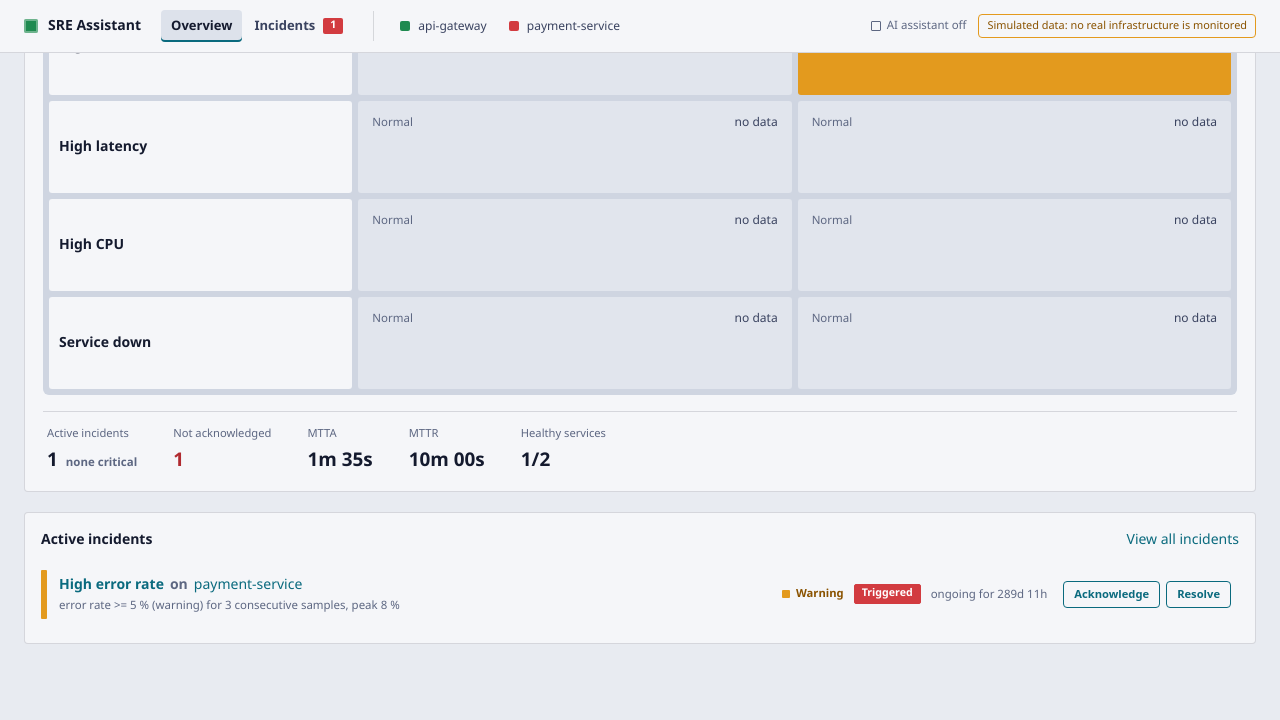
it: overview › shows KPIs, service health, active incidents and acknowledges in one click
The width and height of the screenshot is (1280, 720).
(page scrolled)
Expected: the text "Simulated data: no real infrastructure is monitored" is shown, [978, 14, 1256, 38]
Expected: the text "1m 35s" is shown, [307, 445, 373, 473]
Click the button "Acknowledge" at (1112, 594), box [1063, 581, 1160, 608]
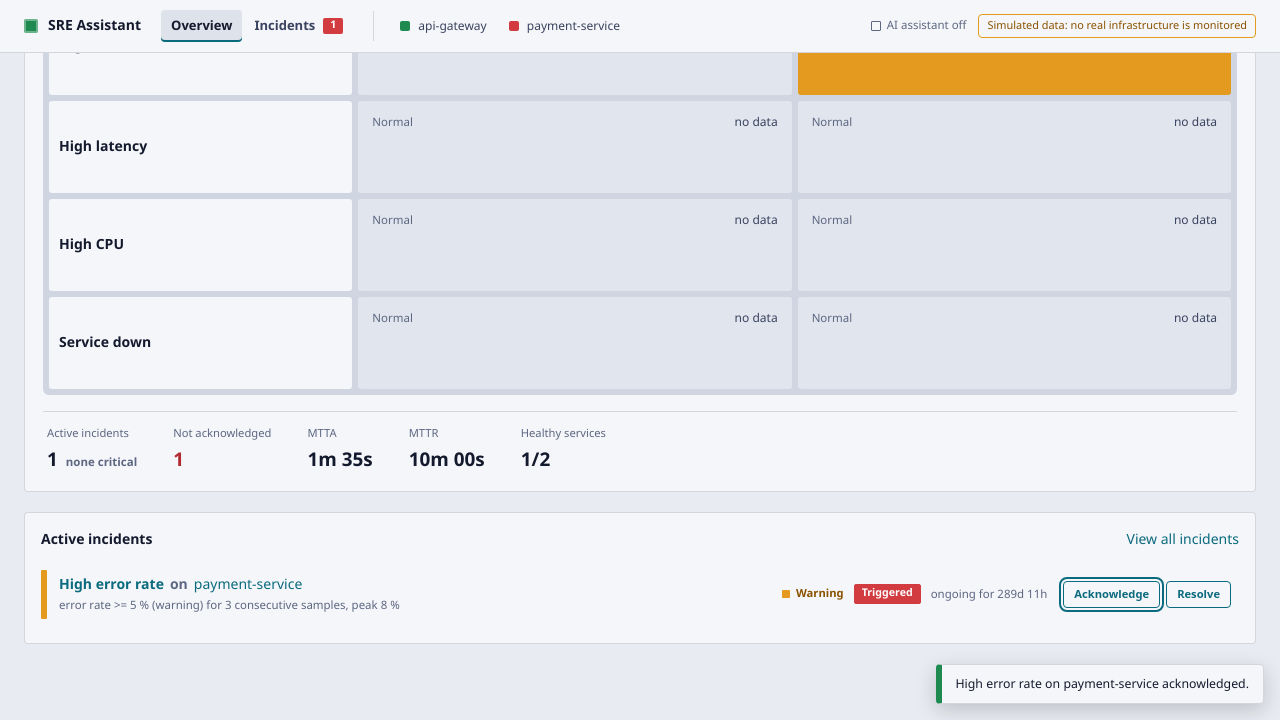
Expected: the text "High error rate on payment-service acknowledged." is shown, [936, 664, 1264, 704]
